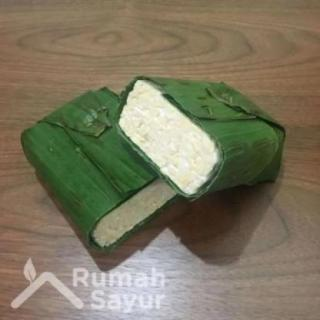Tempe: (19, 73, 286, 250)
